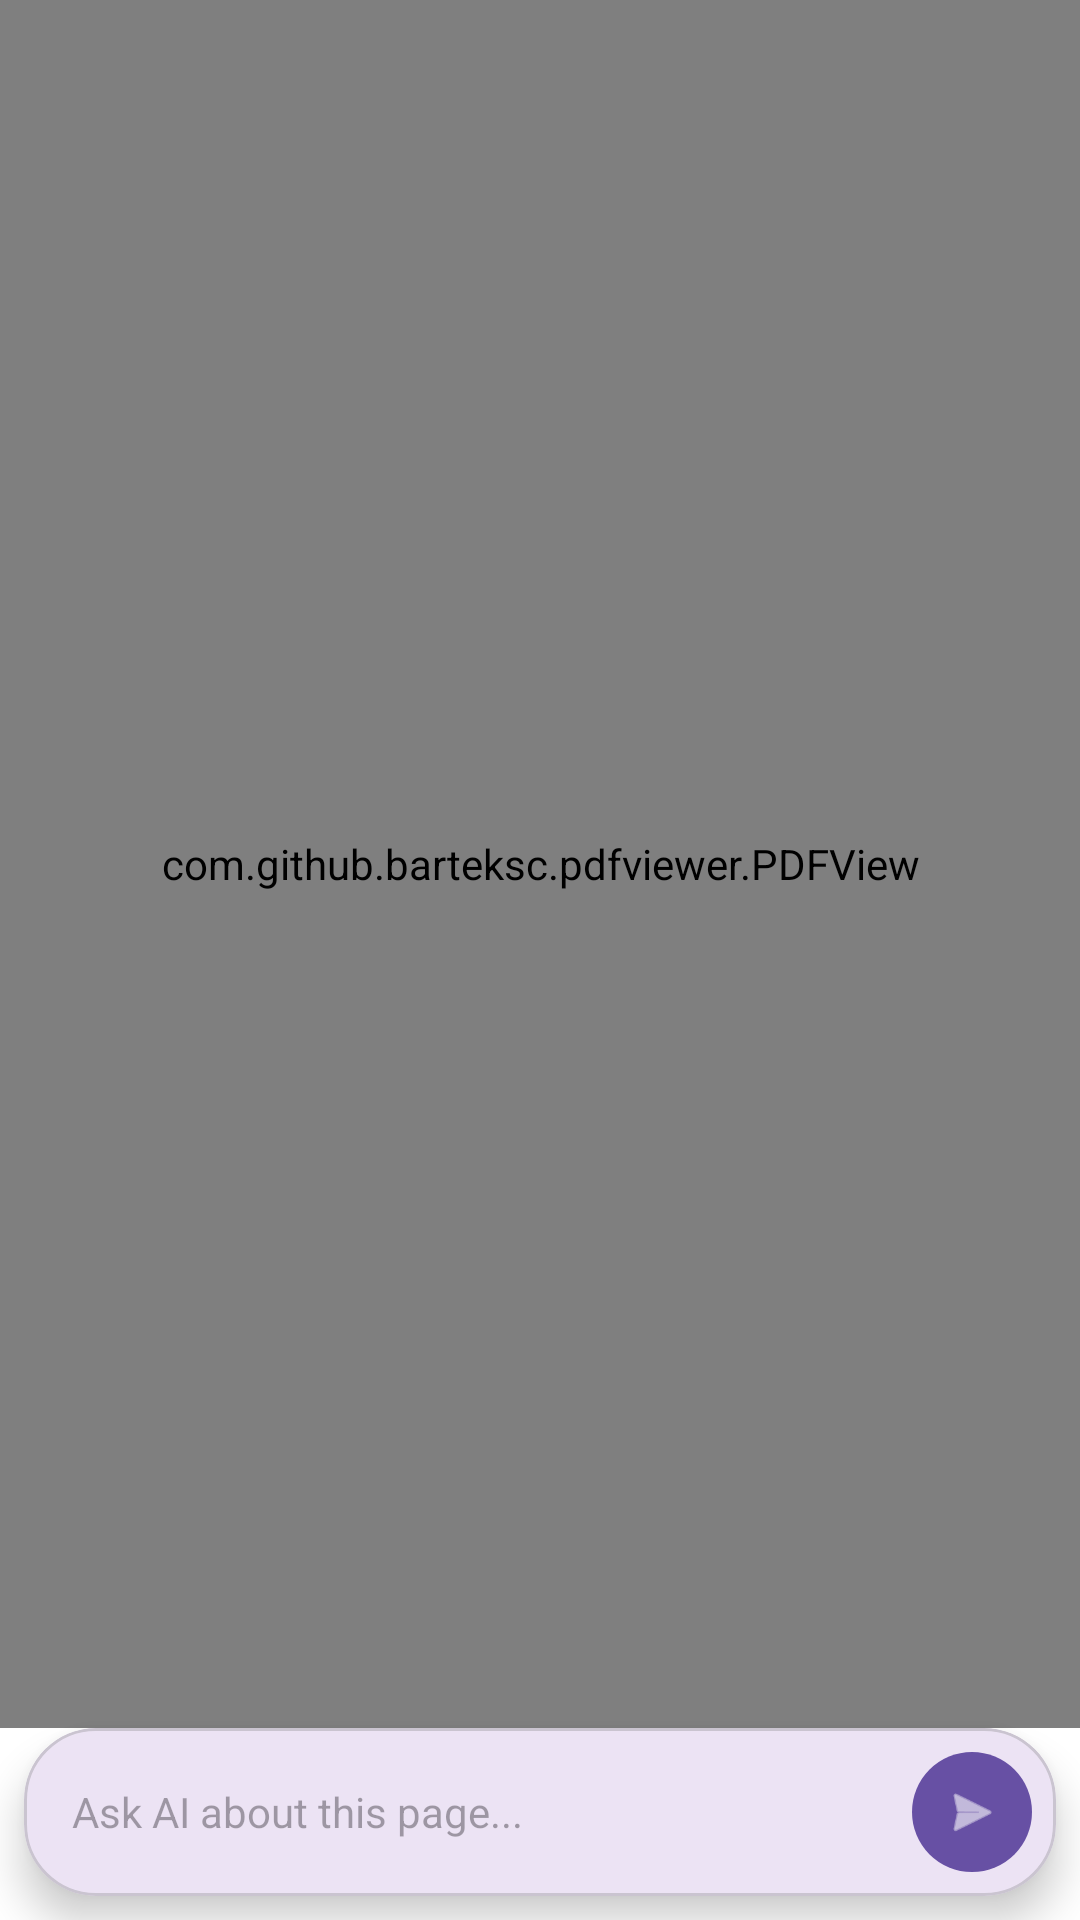

Locate icon controls on the screen. Image size 1080×1920, boxes as (x1, y1, x2, y2).
send: (912, 1752, 1032, 1872)
